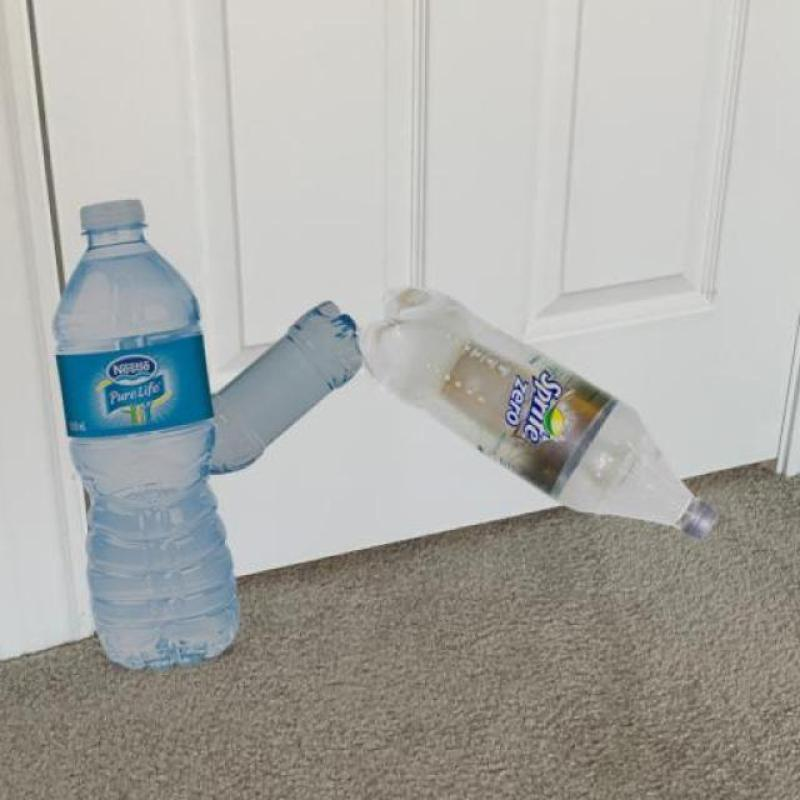botella: (49, 197, 243, 672), (362, 287, 720, 541), (209, 300, 370, 474)
